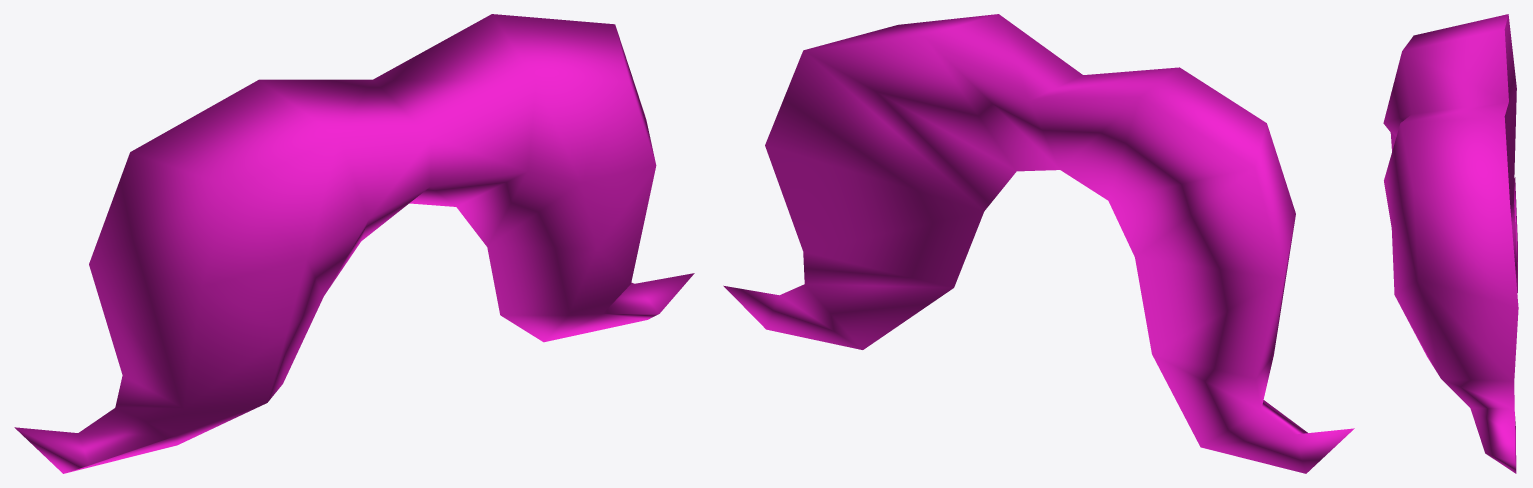
Rendered from Mustache.fbx.
3 views of the same model, side by side, from view 1: azimuth 30°, elevation 25°; view 2: azimuth 150°, elevation 25°; view 3: azimuth 270°, elevation 25° (orthographic). The views are drawn at different scales.
Visible parts, largest first — view 1: Mustache; view 2: Mustache; view 3: Mustache.
Part boxes in pixels (x1,y1,x2,y2): Mustache: (14,14,694,473); Mustache: (723,14,1354,473); Mustache: (1383,14,1518,473).
Size of the model in its own units: 42.23 by 21.52 by 8.73.
